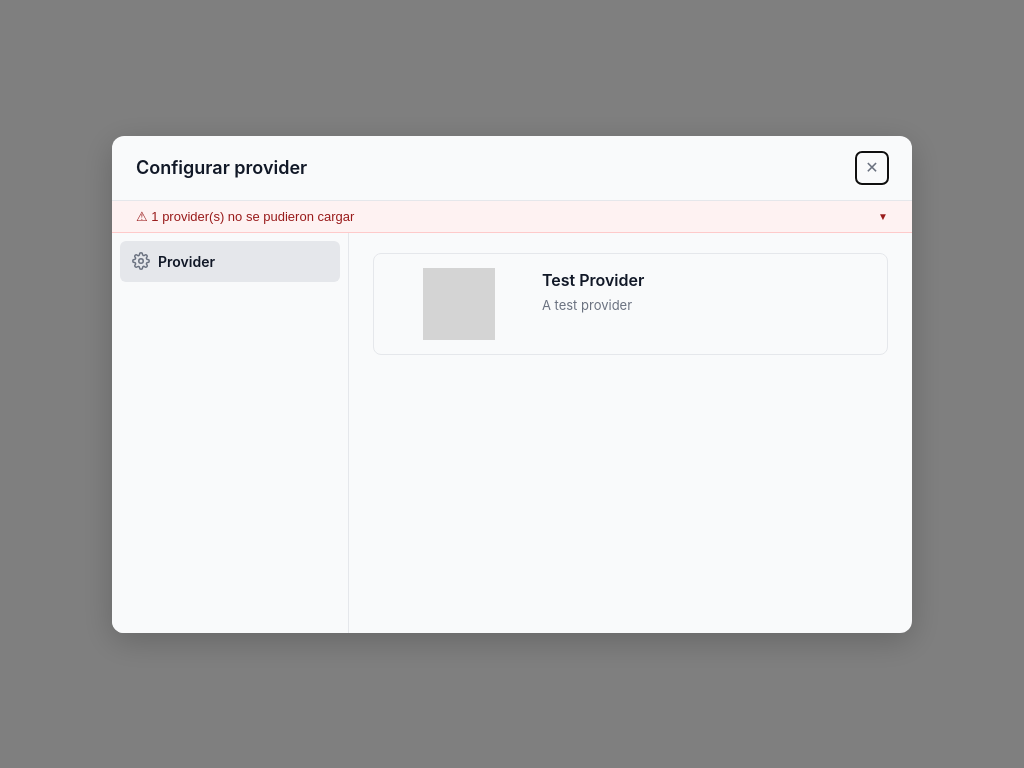
it: AgentSetupWizard › error banner expande/colapsa al hacer click
The width and height of the screenshot is (1024, 768).
Expected: the element with test id "wizard-provider-list" is shown, [373,252,888,354]
Step 1. Click the button with test id "provider-error-toggle" → (256, 216), box [112,200,912,232]
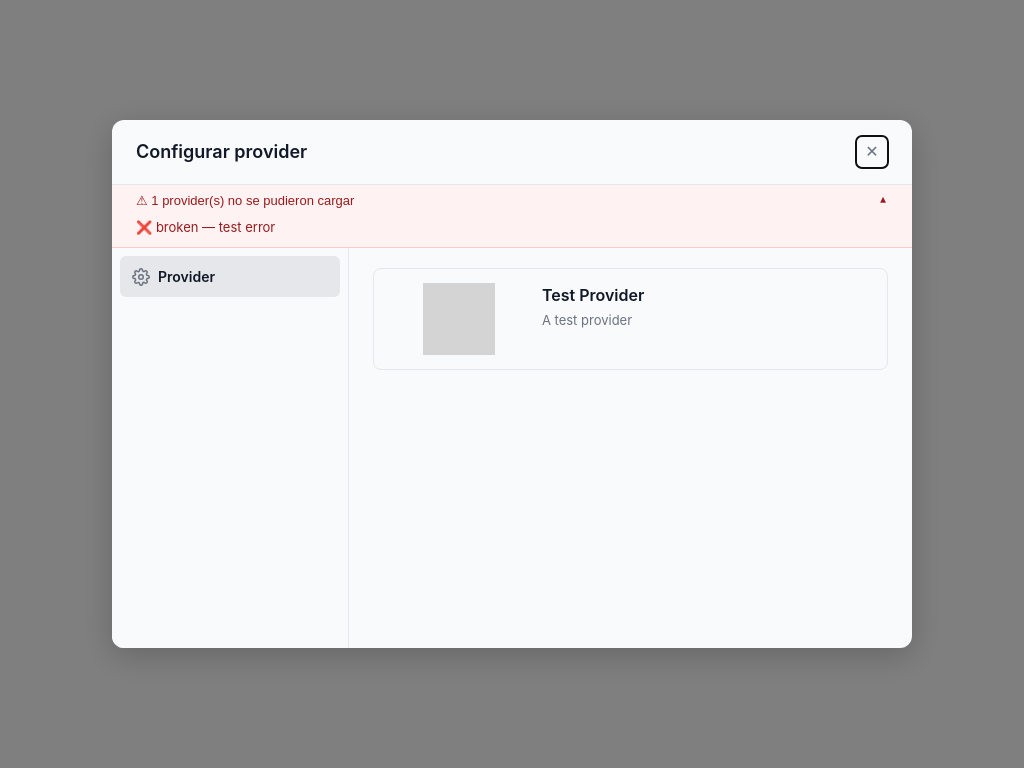
Expected: the text "❌ broken — test error" is shown, [136,219,275,235]
Step 2. Click the button with test id "provider-error-toggle" → (256, 200), box [112,185,912,216]
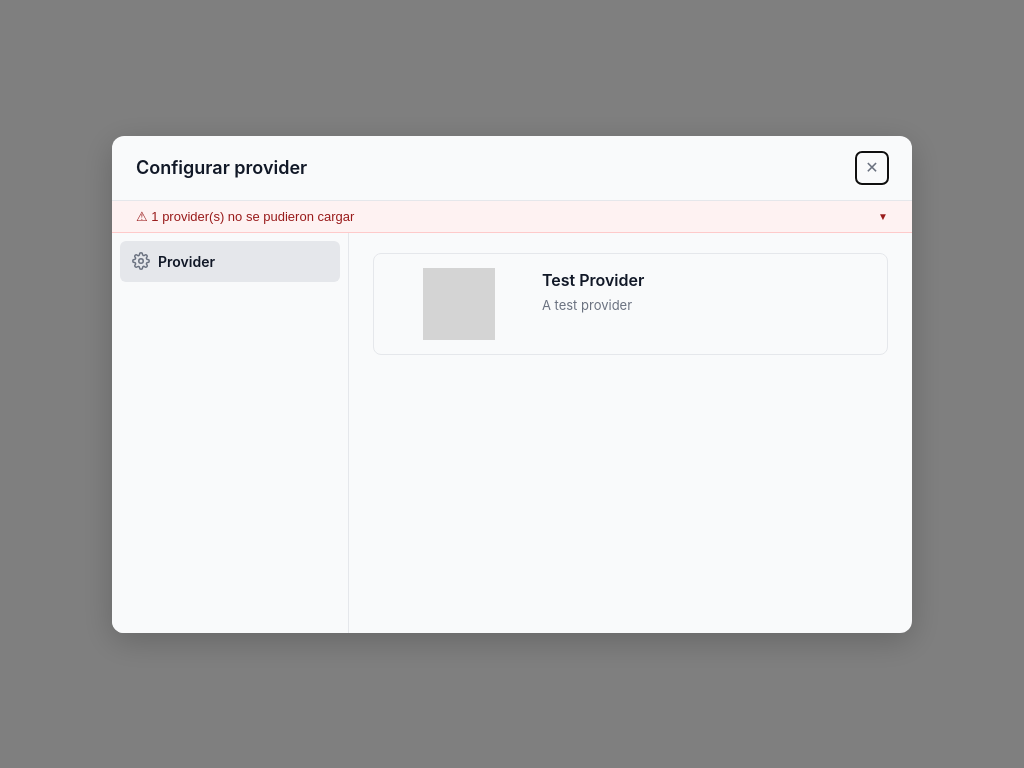
Expected: the element with test id "provider-error-detail" is gone
